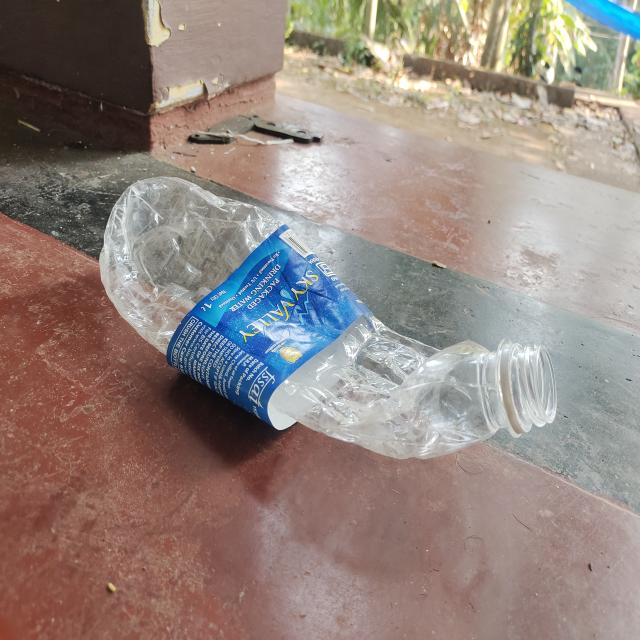plastic: (99, 171, 561, 464)
